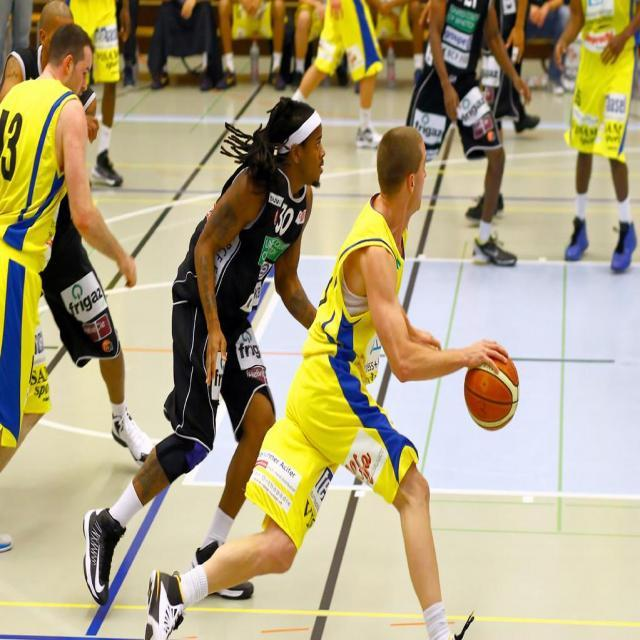rim: (465, 346, 520, 432)
